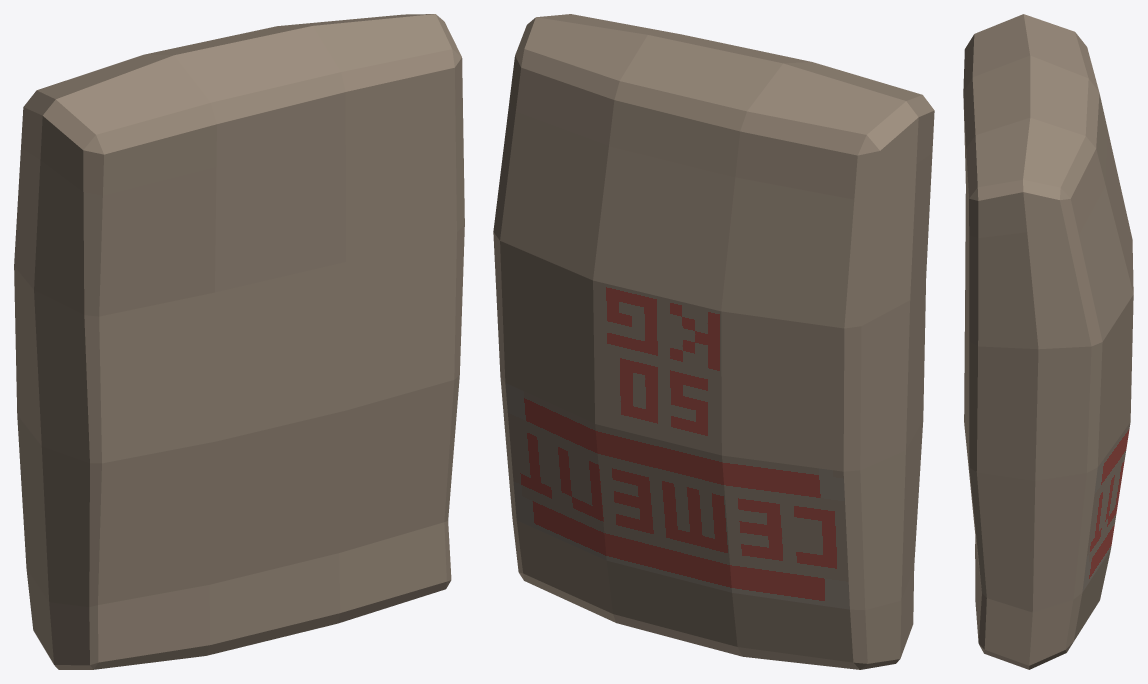
Rendered from Concrete_Bag.fbx.
The picture shows the model from 3 angles, left to right: view 1: azimuth 30°, elevation 25°; view 2: azimuth 150°, elevation 25°; view 3: azimuth 270°, elevation 25°; orthographic projection. The views are drawn at different scales.
Parts seen in each view (by area): view 1: Concrete_Bag; view 2: Concrete_Bag; view 3: Concrete_Bag.
Boxes of the visible parts, x1,y1,x2,y2 form: Concrete_Bag: (14,14,464,669); Concrete_Bag: (493,14,934,669); Concrete_Bag: (963,14,1133,669).
Size of the model in its own units: 0.5376 by 0.7554 by 0.2232.
